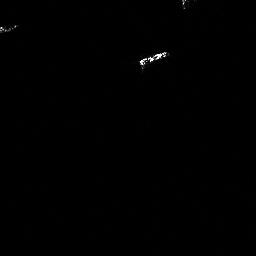ship: (139, 50, 166, 68)
